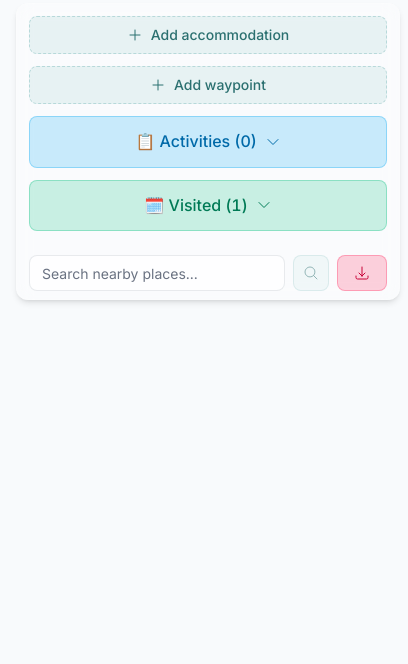
Test case: ActivitiesPanel todo chips › keeps the chip on a visited activity whose todo is still open
Click the button named "Visited (1)".
click(208, 205)  # box top-left (29, 180), bottom-right (387, 231)
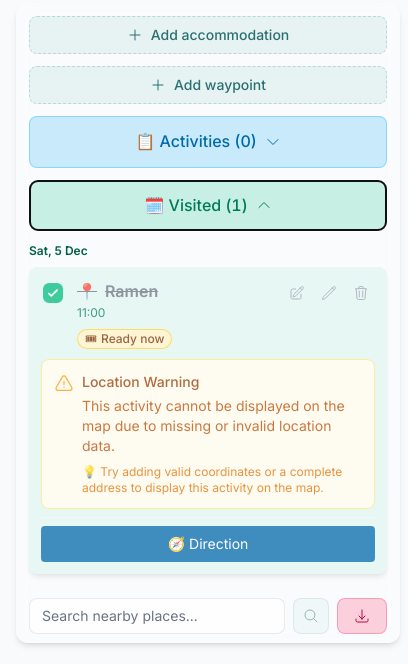
Expected: the text "Ready now" is shown, top-left (101, 331), bottom-right (164, 346)
